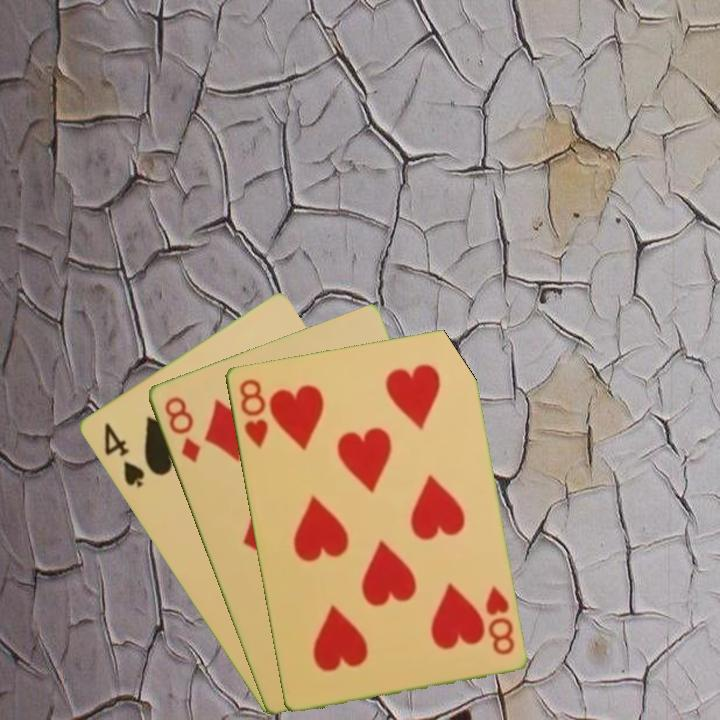4s: (99, 418, 147, 491)
8d: (160, 392, 204, 466)
8h: (235, 375, 271, 451), (481, 582, 517, 658)
